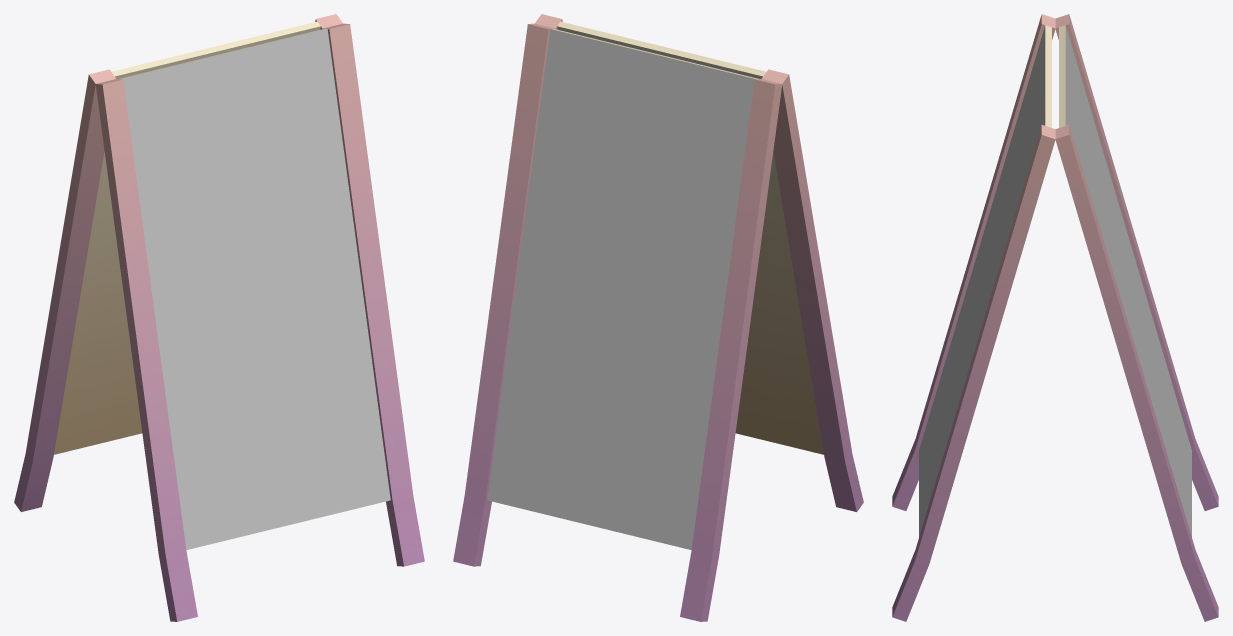
File: SM_GroundSign_HotdogStand.fbx
3 renders of one model, left to right at view 1: azimuth 30°, elevation 25°; view 2: azimuth 150°, elevation 25°; view 3: azimuth 270°, elevation 25°, orthographic.
Visible parts, largest first — view 1: SM_GroundSign_HotdogStand; view 2: SM_GroundSign_HotdogStand; view 3: SM_GroundSign_HotdogStand.
Boxes of the visible parts, left/top/right/bottom form: SM_GroundSign_HotdogStand: left=14, top=14, right=424, bottom=621; SM_GroundSign_HotdogStand: left=453, top=14, right=863, bottom=621; SM_GroundSign_HotdogStand: left=892, top=14, right=1218, bottom=621.
Size of the model in its own units: 76.64 by 144 by 87.5.
